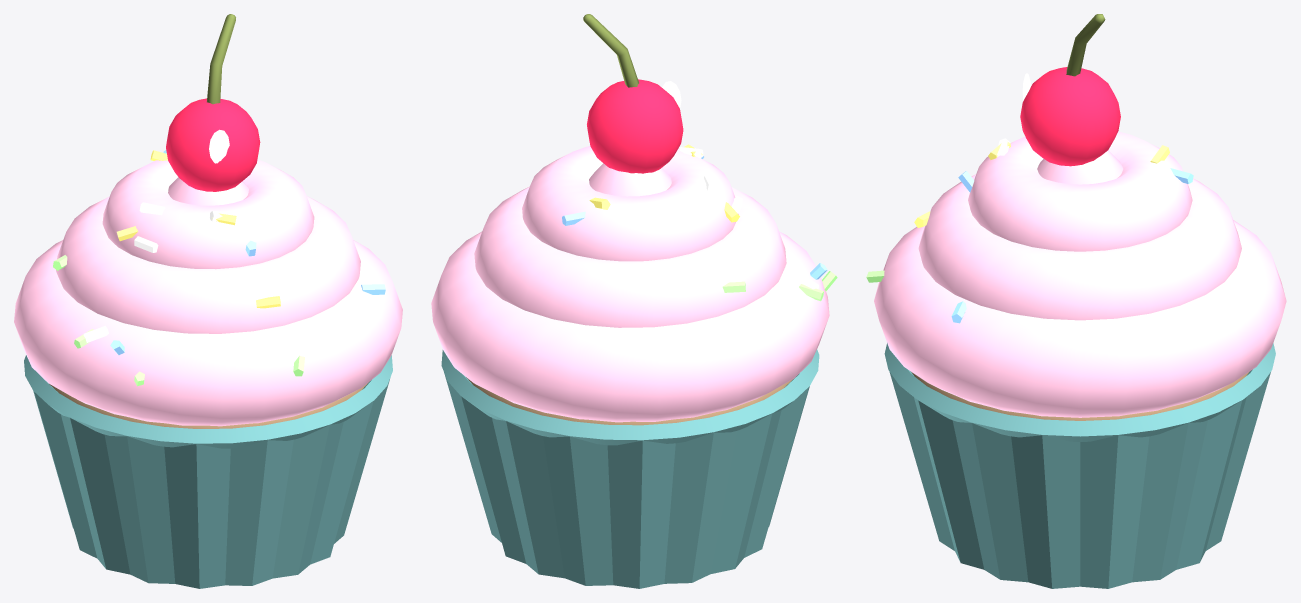
The model's file is treat_cupcake.glb.
3 renders of one model, left to right at view 1: azimuth 30°, elevation 25°; view 2: azimuth 150°, elevation 25°; view 3: azimuth 270°, elevation 25°, orthographic. The views are drawn at different scales.
Visible parts, largest first — view 1: treat_cupcake; view 2: treat_cupcake; view 3: treat_cupcake.
Part boxes in pixels (<box>): treat_cupcake: <box>14,14,402,588</box>; treat_cupcake: <box>431,14,837,588</box>; treat_cupcake: <box>866,14,1286,588</box>.
Bounding box in the file's own units: 0.426 × 0.6058 × 0.4338.
